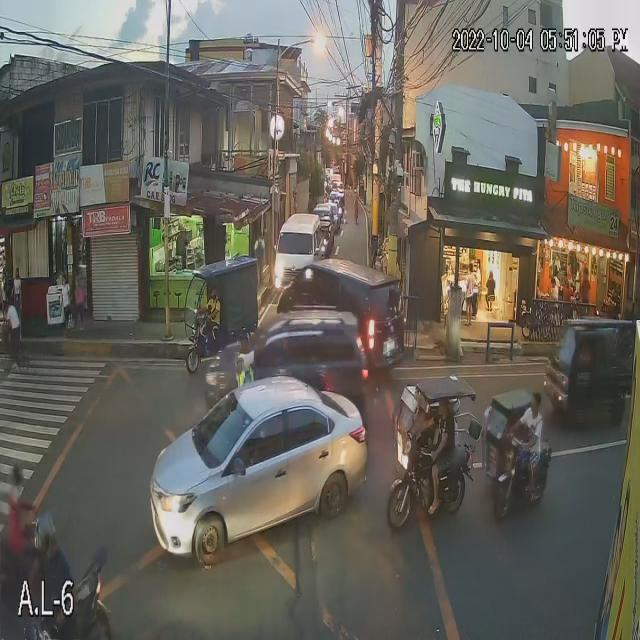helmet: (32, 520, 68, 558)
motorcycle: (20, 592, 110, 640), (0, 522, 61, 584)
rider: (40, 554, 70, 628), (4, 497, 32, 558)
